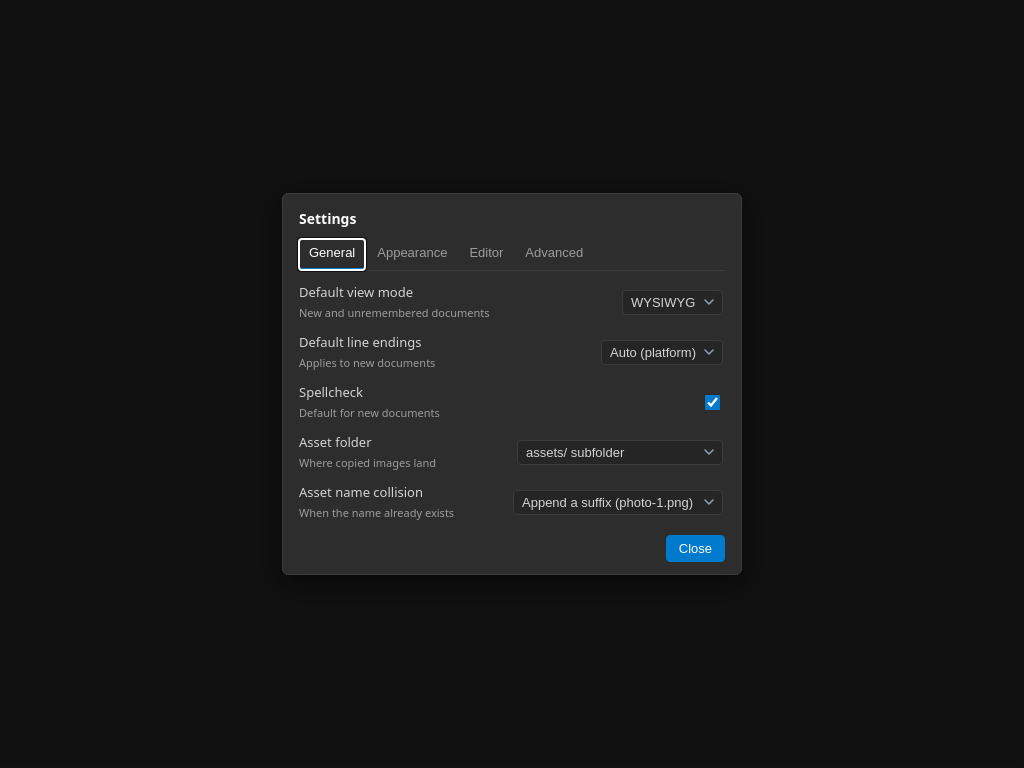
Test: SettingsDialog component (issue #94) › offers only the document themes that match the resolved appearance
Click the tab "Appearance": [412, 254] box [367,239,457,270]
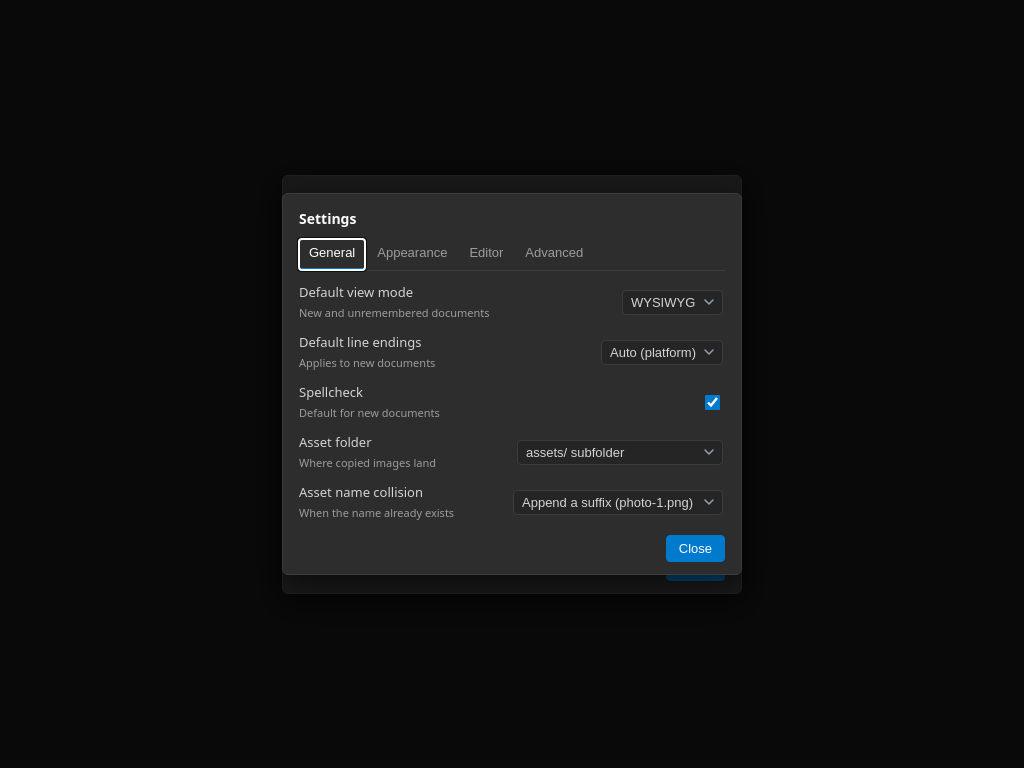
expect the text "Theme" is shown: met, box [299,314,341,332]
Click the tab "Appearance": [412, 254] box [367,239,457,270]
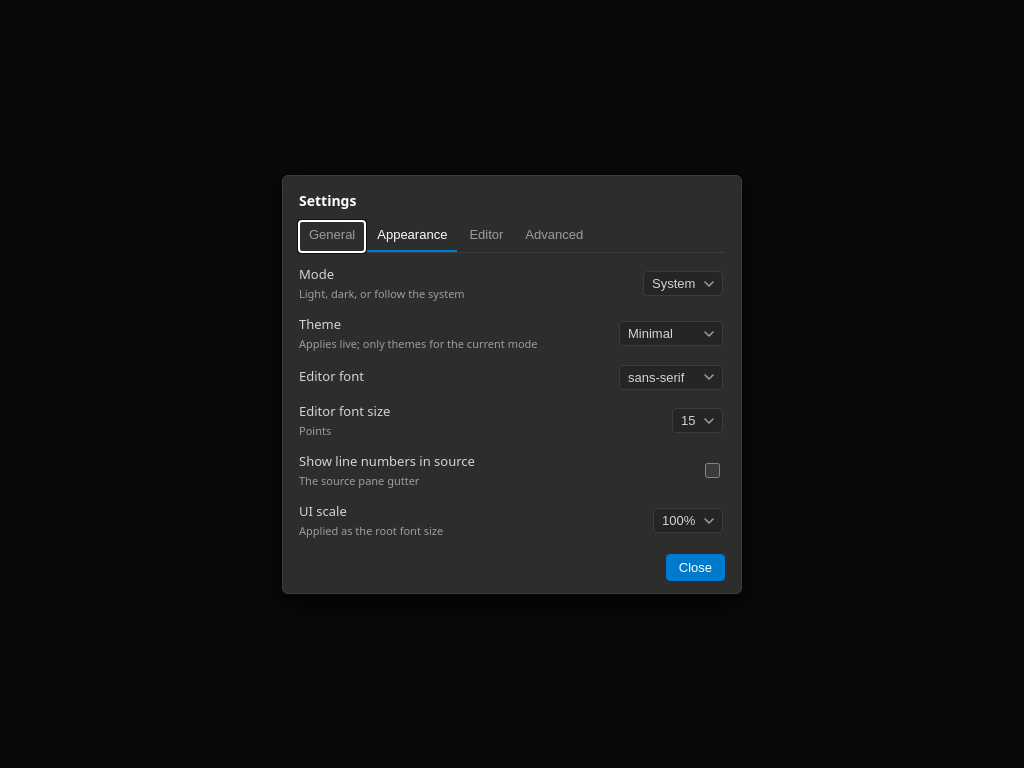
expect the text "Theme" is shown: met, box [299,314,341,332]
expect the 2nd dropdown shows "Minimal": met, box [619,321,723,346]
